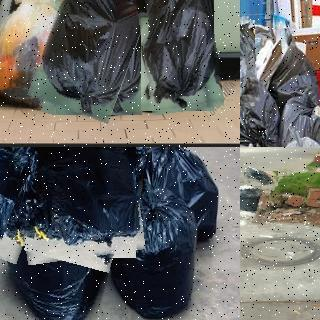Garbage: (12, 147, 140, 261), (41, 0, 156, 119), (108, 187, 203, 320), (0, 208, 112, 320), (135, 0, 219, 113), (131, 147, 225, 241), (0, 0, 78, 111), (252, 29, 320, 115), (0, 147, 47, 259), (240, 18, 257, 107), (240, 181, 270, 213), (244, 169, 279, 189)
